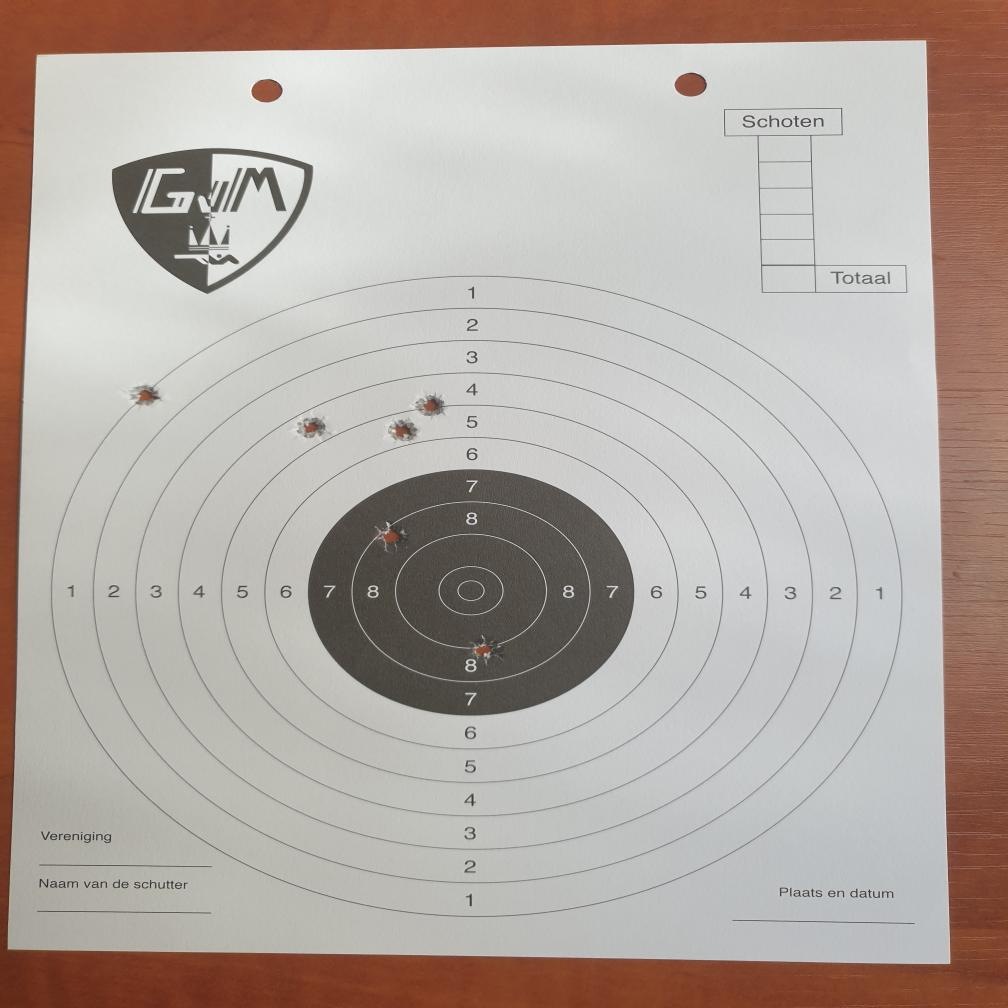1: (125, 382, 163, 408)
4: (290, 417, 332, 439)
5: (414, 393, 449, 418), (386, 420, 417, 440)
8: (372, 523, 410, 548)
9: (466, 637, 502, 662)
Target: (57, 275, 903, 917)
black_contour: (307, 468, 634, 717)
